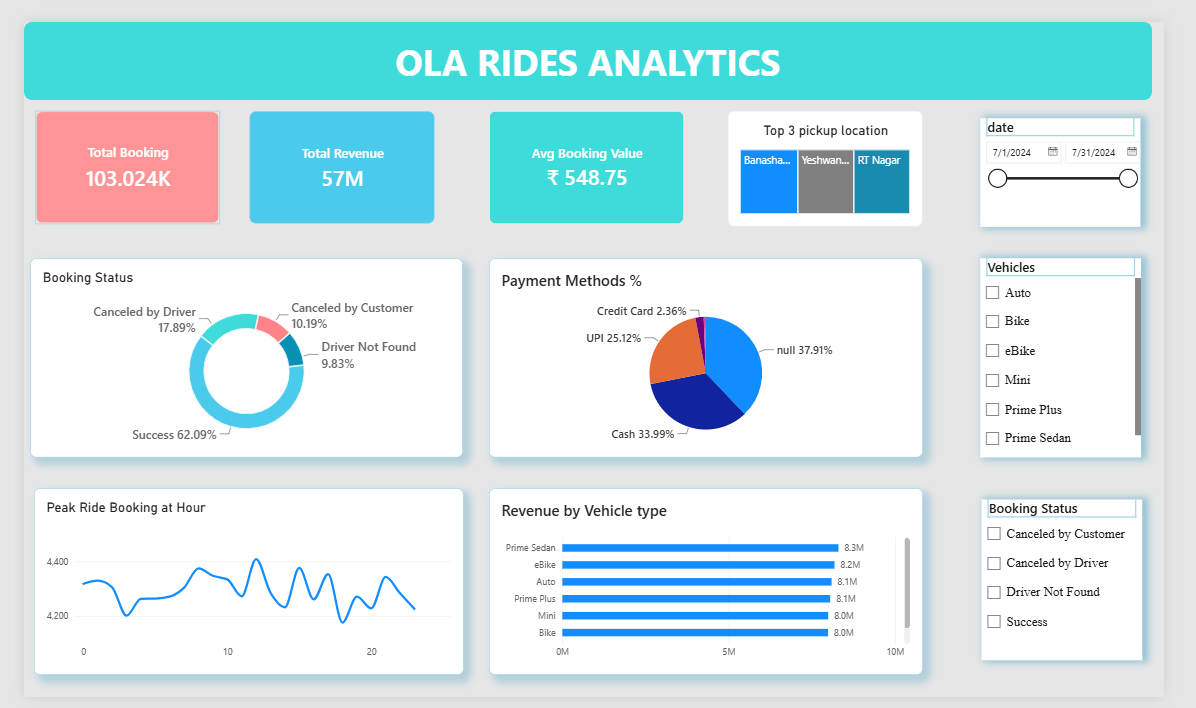

What the dashboard file says about the page in this screenshot:
{"tool":"powerbi","page":{"name":"Page 1","canvas":[1520,900],"ordinal":0},"visuals":[{"type":"cardVisual","fields":{"Data":["CountNonNull(ola_rides_analysis bookings.booking_id)"]},"box":[15,118.3,246.7,151.7],"z":0},{"type":"cardVisual","fields":{"Data":["Sum(ola_rides_analysis bookings.booking_value)"]},"box":[300,118.3,248.3,151.7],"z":1000},{"type":"lineChart","title":"Peak Ride Booking at Hour","fields":{"Category":["ola_rides_analysis bookings.booking_hour"],"Y":["CountNonNull(ola_rides_analysis bookings.time)"]},"box":[12.9,621.4,572.9,248.6],"z":2000},{"type":"clusteredBarChart","title":"Revenue by Vehicle type","fields":{"Y":["Sum(ola_rides_analysis bookings.booking_value)"],"Category":["ola_rides_analysis bookings.vechicle_type"]},"box":[620,621.4,578.6,248.6],"z":3000},{"type":"donutChart","title":"Booking Status ","fields":{"Category":["ola_rides_analysis bookings.booking_status"],"Y":["CountNonNull(ola_rides_analysis bookings.booking_id)"]},"box":[8.6,314.3,577.1,265.7],"z":4000},{"type":"slicer","fields":{"Values":["ola_rides_analysis bookings.vechicle_type"]},"box":[1275,315,214.3,265.7],"z":5000},{"type":"pieChart","title":"Payment Methods %","fields":{"Category":["ola_rides_analysis bookings.payment_method"],"Y":["CountNonNull(ola_rides_analysis bookings.booking_id)"]},"box":[620,314.3,578.6,265.7],"z":6000},{"type":"slicer","fields":{"Values":["ola_rides_analysis bookings.booking_status"]},"box":[1276,636,214,214],"z":7000},{"type":"cardVisual","fields":{"Data":["ola_rides_analysis bookings.Avg Booking Value"]},"box":[620,118.3,260,151.7],"z":8000},{"type":"slicer","fields":{"Values":["ola_rides_analysis bookings.date"]},"box":[1275,127.5,213.8,145],"z":9000},{"type":"treemap","title":"Top 3 pickup location","fields":{"Group":["ola_rides_analysis bookings.pickup_location"],"Values":["CountNonNull(ola_rides_analysis bookings.booking_id)"]},"box":[938,118,260,154],"z":10000},{"type":"shape","box":[0,0,1504,104],"z":12000}]}

Visuals, with their boxes in screenshot pixels (x1, y1, x2, y2), scaled from the page's 1520x900 canvas onto the 1196x708 screenshot:
cardVisual - CountNonNull(ola_rides_analysis bookings.booking_id): locate(12, 93, 206, 212)
cardVisual - Sum(ola_rides_analysis bookings.booking_value): locate(236, 93, 431, 212)
"Peak Ride Booking at Hour" lineChart: locate(10, 489, 461, 684)
"Revenue by Vehicle type" clusteredBarChart: locate(488, 489, 943, 684)
"Booking Status " donutChart: locate(7, 247, 461, 456)
slicer - ola_rides_analysis bookings.vechicle_type: locate(1003, 248, 1172, 457)
"Payment Methods %" pieChart: locate(488, 247, 943, 456)
slicer - ola_rides_analysis bookings.booking_status: locate(1004, 500, 1172, 669)
cardVisual - ola_rides_analysis bookings.Avg Booking Value: locate(488, 93, 692, 212)
slicer - ola_rides_analysis bookings.date: locate(1003, 100, 1171, 214)
"Top 3 pickup location" treemap: locate(738, 93, 943, 214)
shape: locate(0, 0, 1183, 82)
